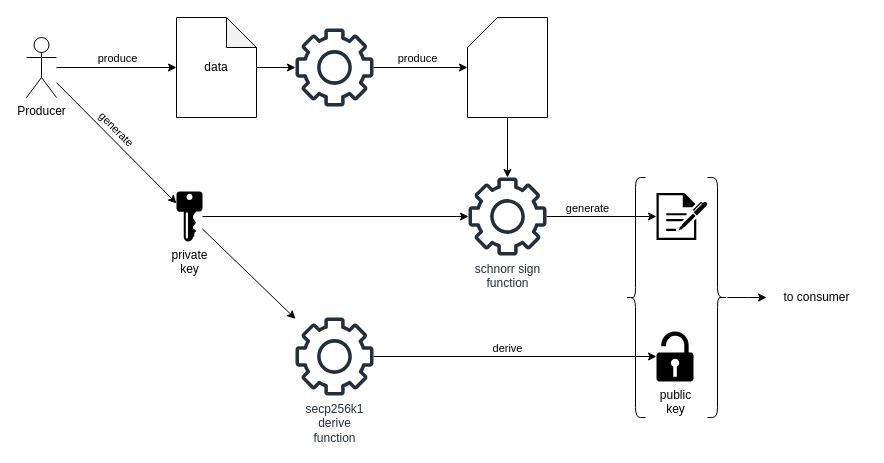
Some shapes in this 884 by 463 pixel diagram are drawn without their labels. The shapes that lost their labels are listed below. From the top down, each one's centre as x and y in pixels, then its label:
At (334,67): "sha256 hash function".
At (507,67): "256bits hash".
At (681,216): "512bits signature".
